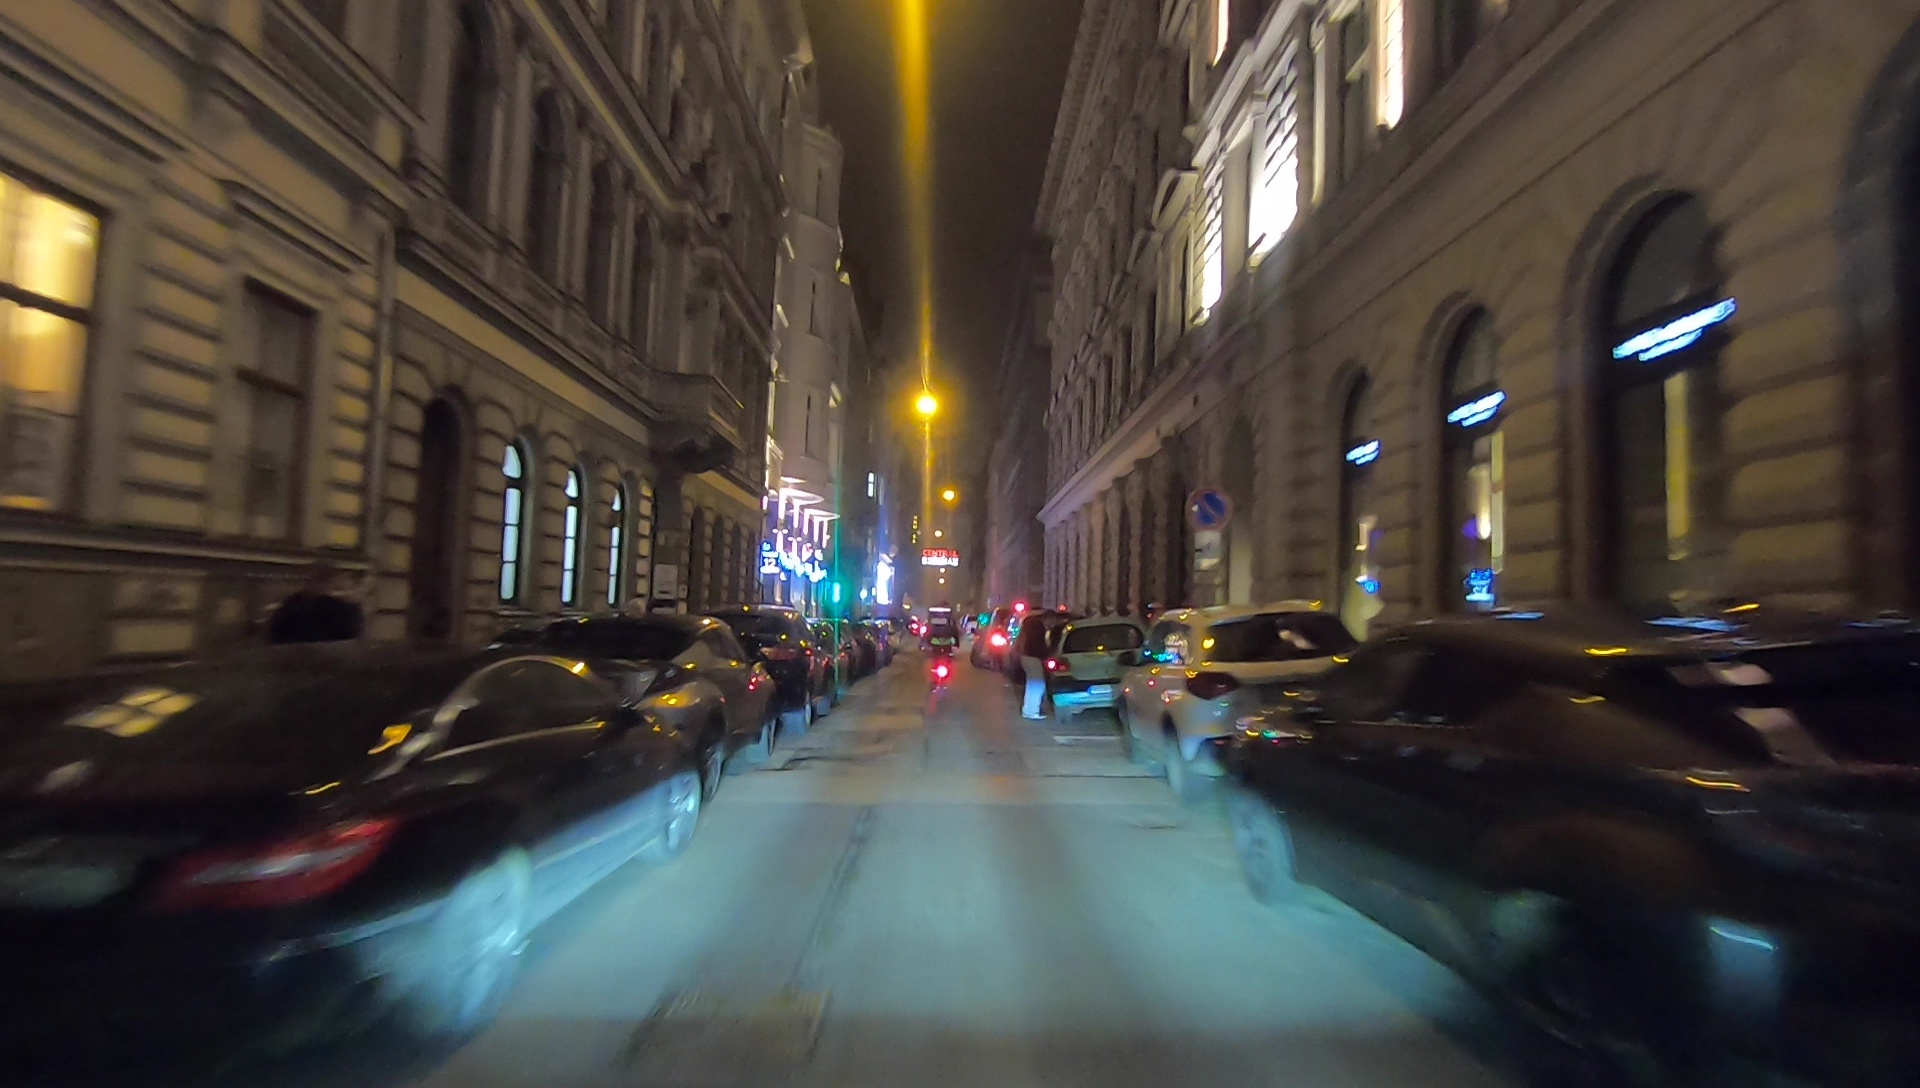person: (276, 563, 356, 763), (1017, 615, 1052, 724)
